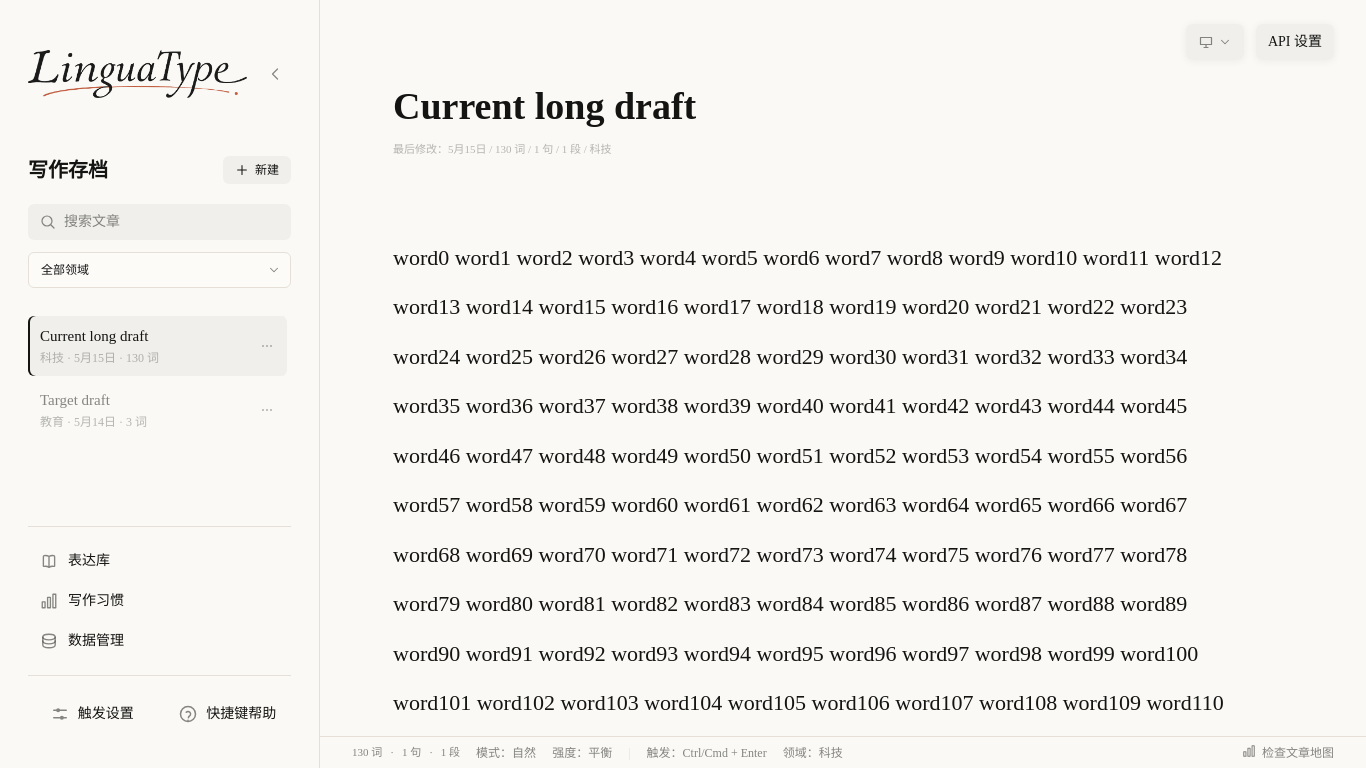
Test: LinguaType v0.2.7 editor shell › keeps archive switching local and uses a soft page-turn motion
This screenshot has width=1366, height=768.
Expected: the text box named "写作编辑器" is shown, [393,233,1293,767]
Step 1. Click the button "Target draft" → (138,410), box [28,380,247,440]
(page scrolled)
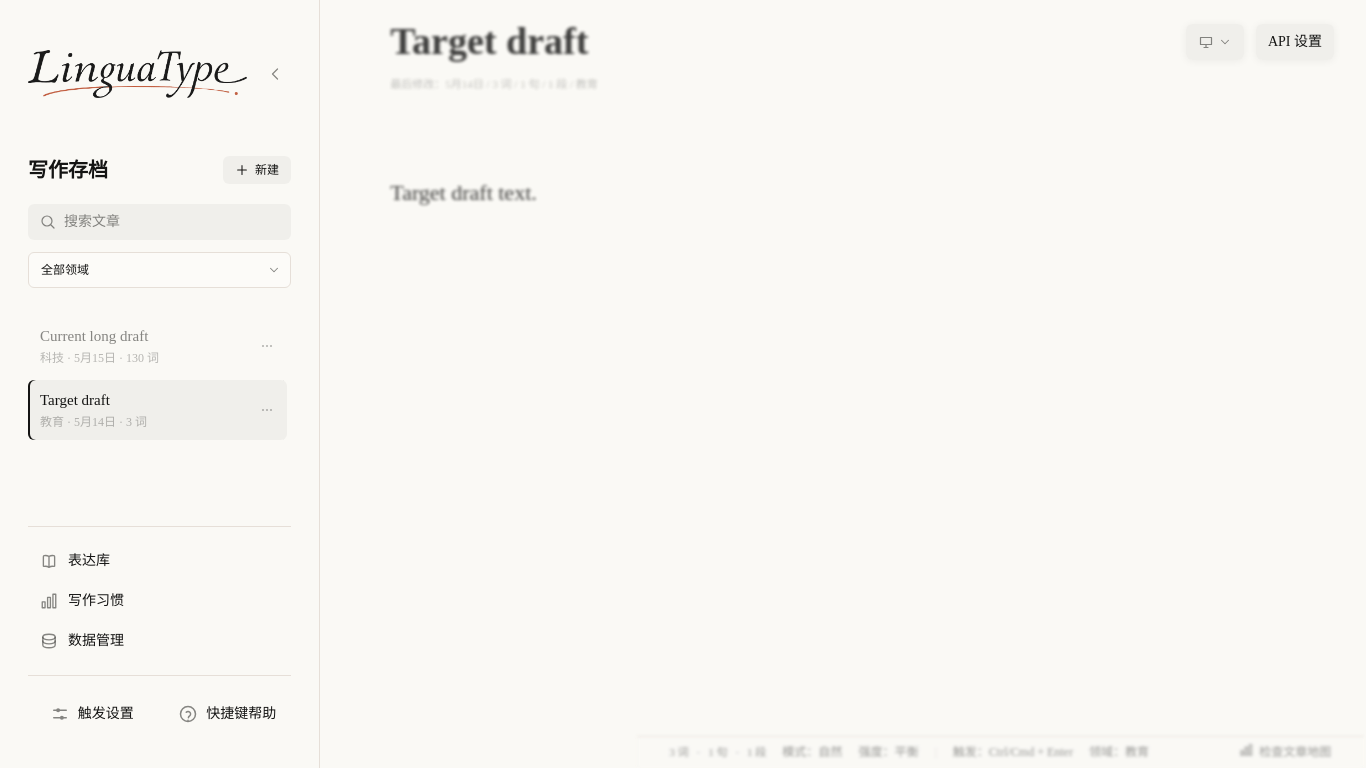
Expected: the text box named "写作编辑器" holds "Target draft text.", [393,168,1293,688]
